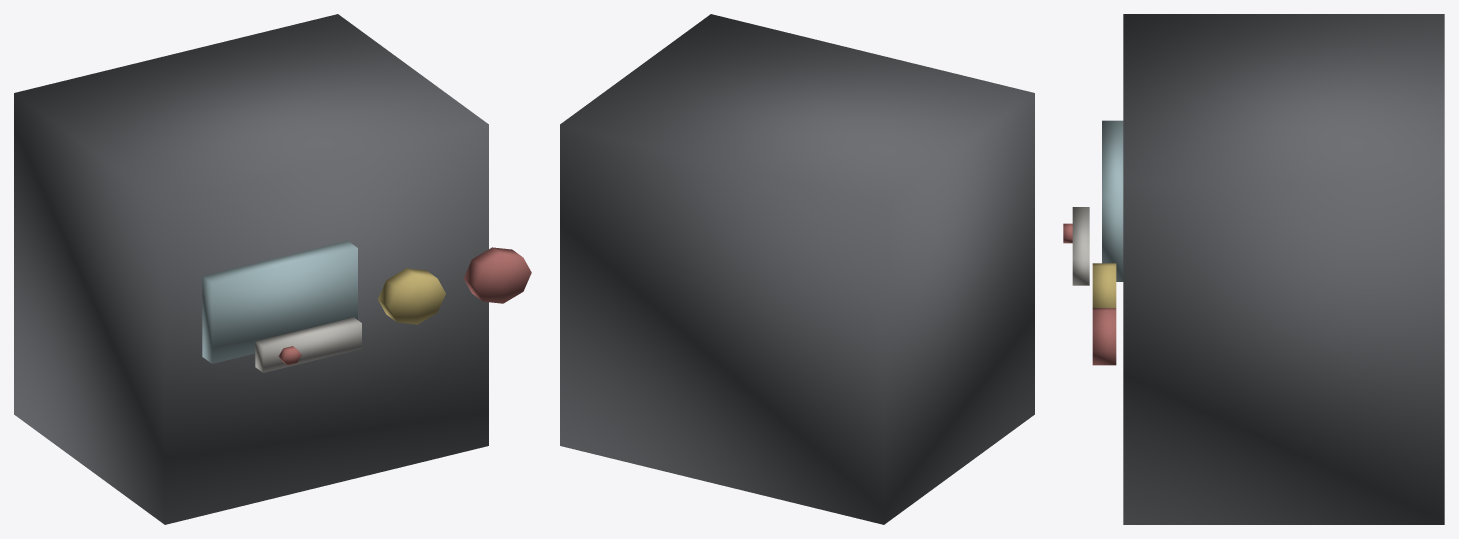
Rendered from multimeter_station__wide.glb.
3 renders of one model, left to right at view 1: azimuth 30°, elevation 25°; view 2: azimuth 150°, elevation 25°; view 3: azimuth 270°, elevation 25°, orthographic. The views are drawn at different scales.
Parts seen in each view (by area): view 1: world; view 2: world; view 3: world.
Part boxes in pixels (left/top/right/bottom): world: left=14, top=14, right=531, bottom=524; world: left=560, top=14, right=1034, bottom=524; world: left=1063, top=14, right=1444, bottom=524.
Size of the model in its own units: 0.4588 by 0.4 by 0.4035.
